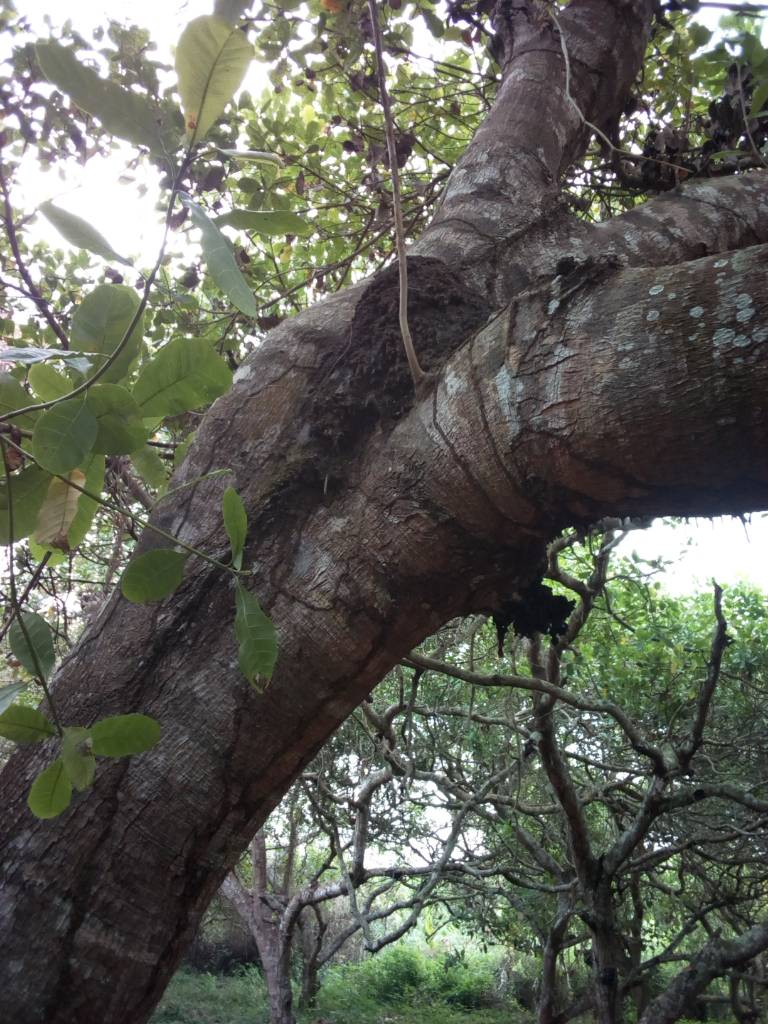Termites: (52, 827, 183, 1024), (330, 253, 472, 432)
